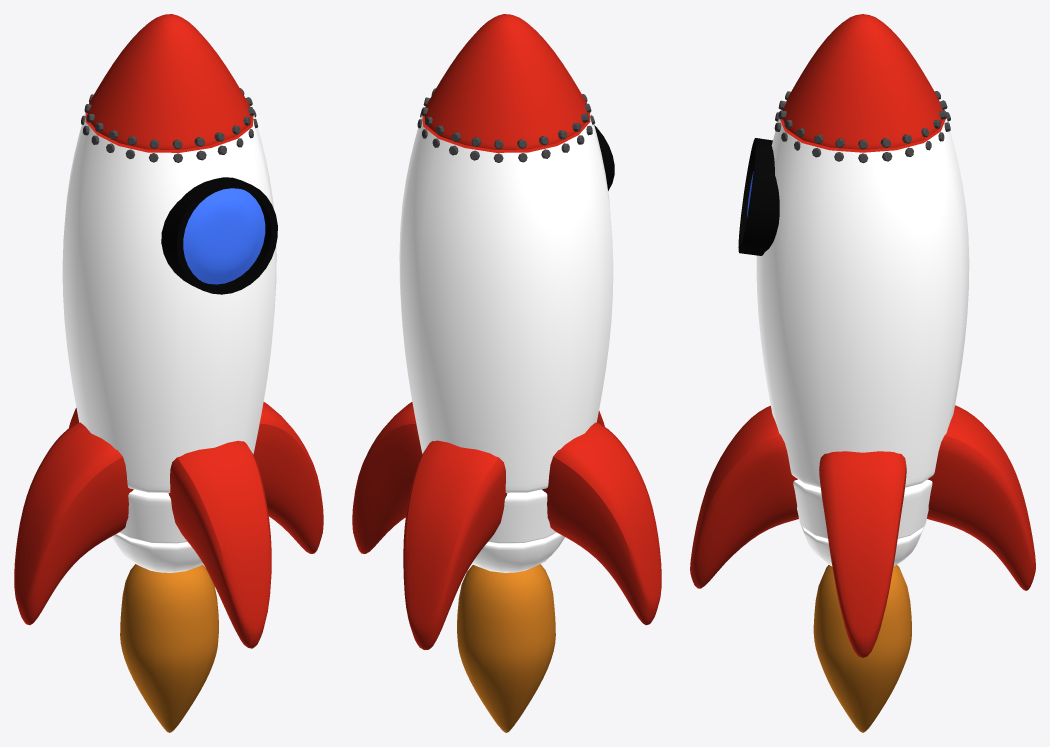
Rendered from rocket.glb.
3 views of the same model, side by side, from view 1: azimuth 30°, elevation 25°; view 2: azimuth 150°, elevation 25°; view 3: azimuth 270°, elevation 25° (orthographic).
Parts seen in each view (by area): view 1: body, air, red, fire, glass, glass background, steel; view 2: body, air, red, fire, steel, glass background; view 3: body, air, red, fire, glass background, steel.
Boxes of the visible parts, bbox=[...] form: body: bbox=[62, 112, 276, 572]; air: bbox=[14, 402, 323, 648]; red: bbox=[85, 14, 253, 152]; fire: bbox=[120, 564, 218, 732]; glass: bbox=[183, 188, 265, 284]; glass background: bbox=[161, 177, 277, 294]; steel: bbox=[81, 88, 258, 162]; body: bbox=[399, 112, 613, 572]; air: bbox=[352, 402, 661, 649]; red: bbox=[422, 14, 590, 152]; fire: bbox=[457, 564, 555, 732]; steel: bbox=[417, 88, 594, 162]; glass background: bbox=[594, 125, 614, 190]; body: bbox=[756, 118, 969, 566]; air: bbox=[690, 405, 1035, 657]; red: bbox=[780, 14, 945, 152]; fire: bbox=[813, 565, 911, 732]; glass background: bbox=[738, 138, 779, 255]; steel: bbox=[774, 91, 950, 163].
Bounding box in the file's own units: 1.78 × 4.08 × 1.78.
